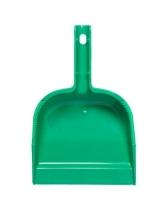PELLE: (25, 18, 138, 194)
